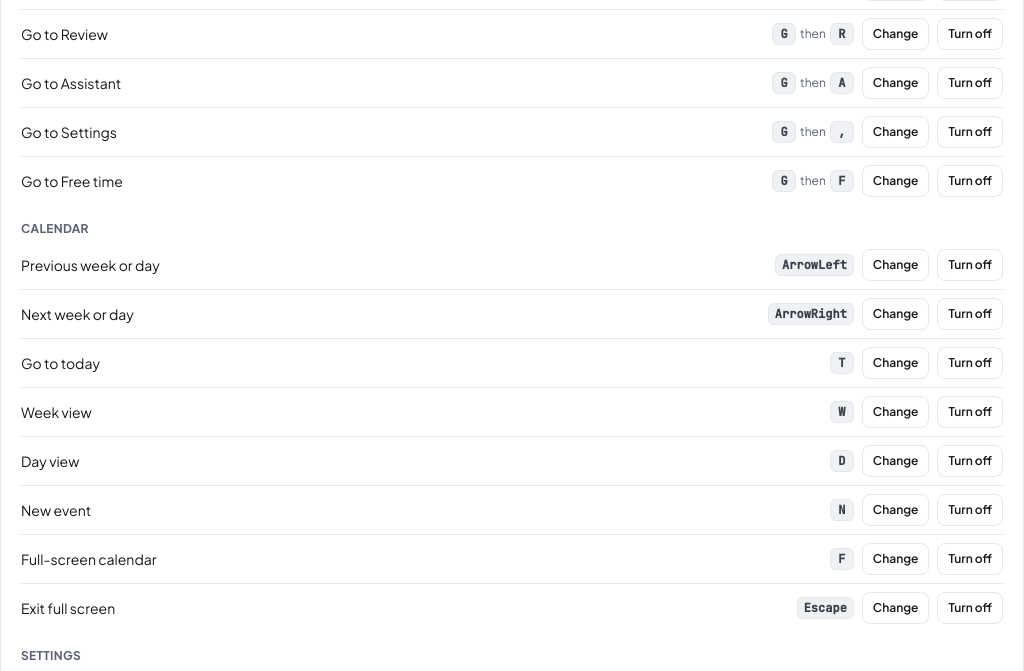
Shortcuts settings › refuses keys the browser owns
The width and height of the screenshot is (1024, 671).
(page scrolled)
Expected: the text "Go to today" is shown, [21,353,100,373]
Step 1. Click the button with aria-label "Change keys for Go to today" → (896, 363), box [862,347,929,379]
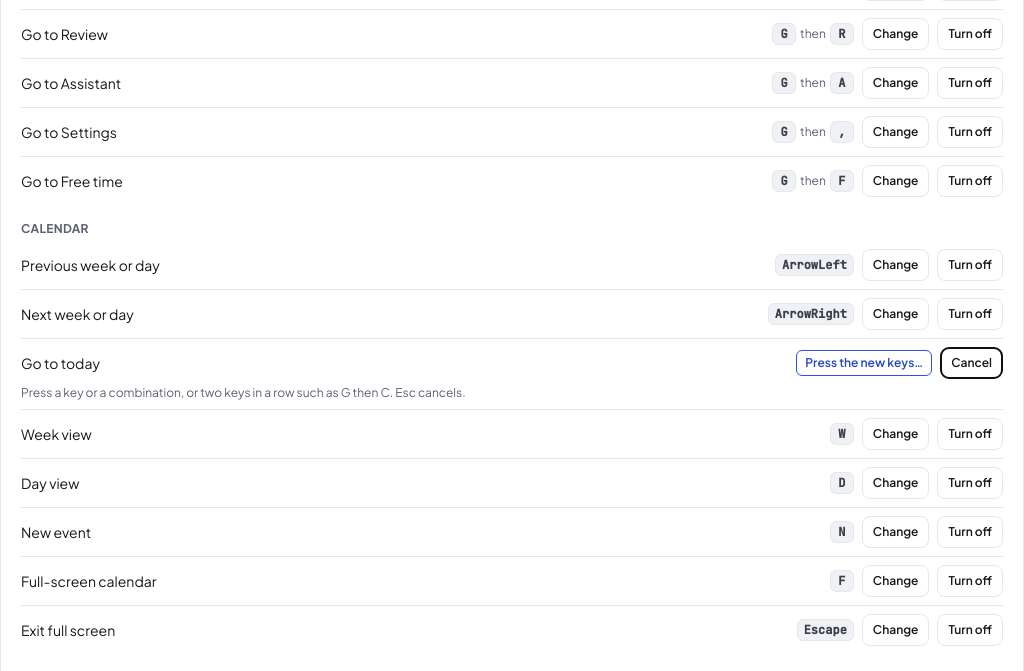
Step 2. Type keys "{Control>}w{/Control}"
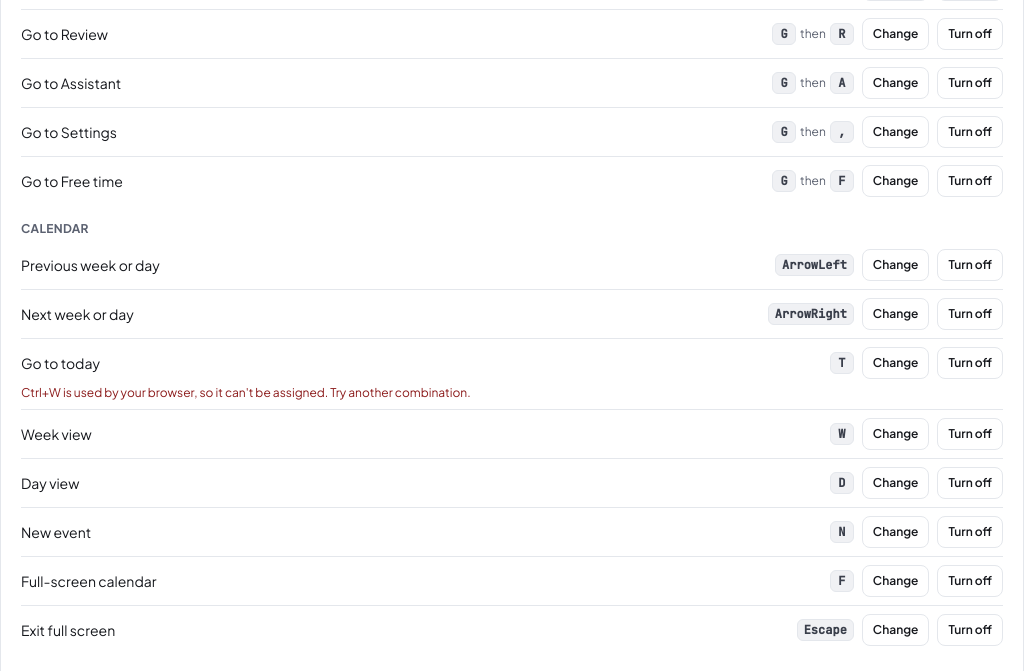
Expected: the message shows "Ctrl+W is used by your browser", [21,385,471,400]
Step 3. Click the button with aria-label "Change keys for Go to today" → (896, 363), box [862,347,929,379]
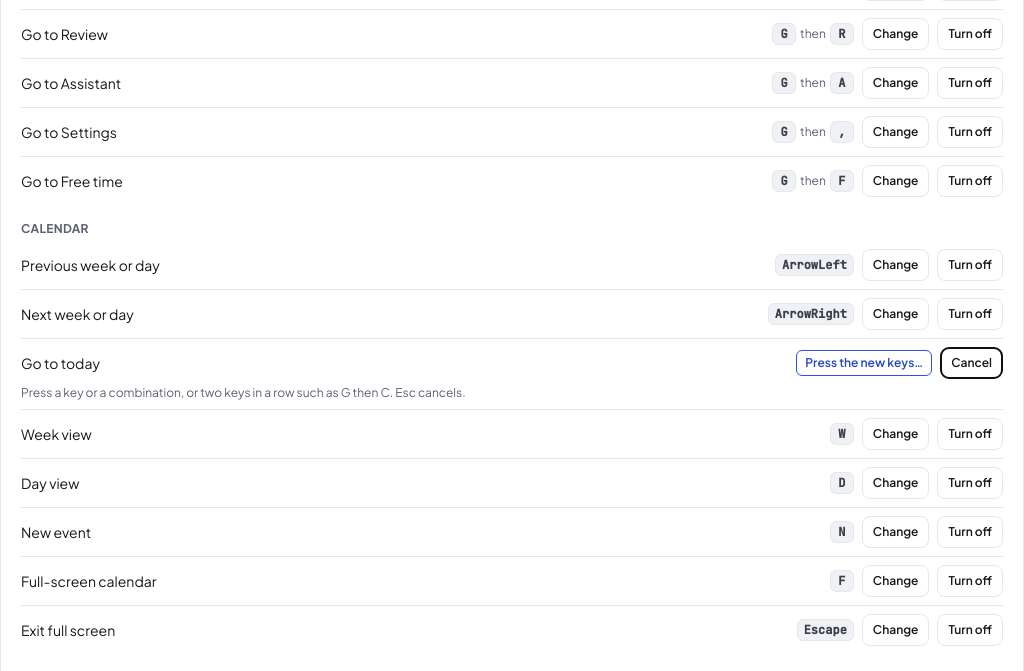
Step 4. Press F5
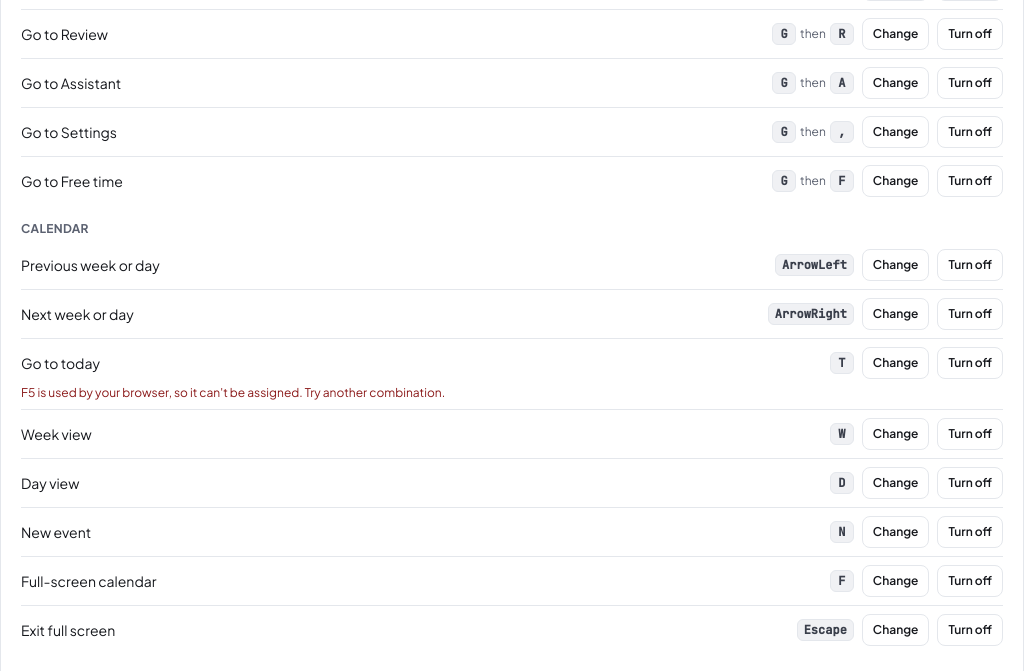
Expected: the message shows "F5 is used by your browser", [21,385,445,400]
